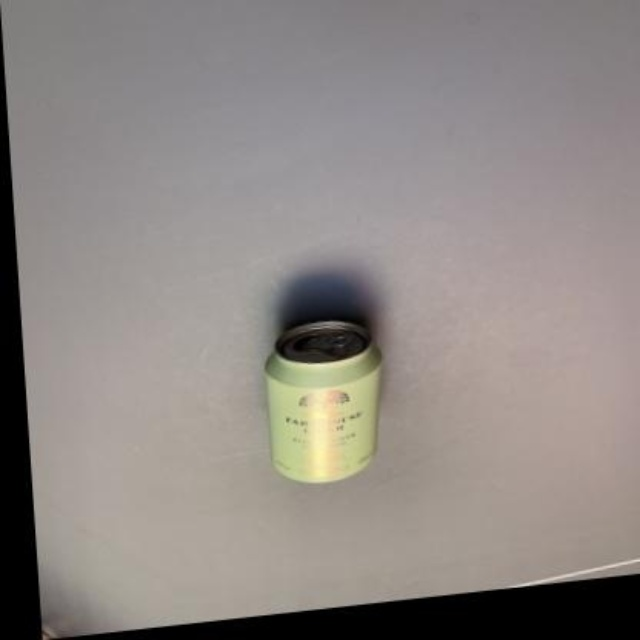trash: (265, 320, 380, 482)
